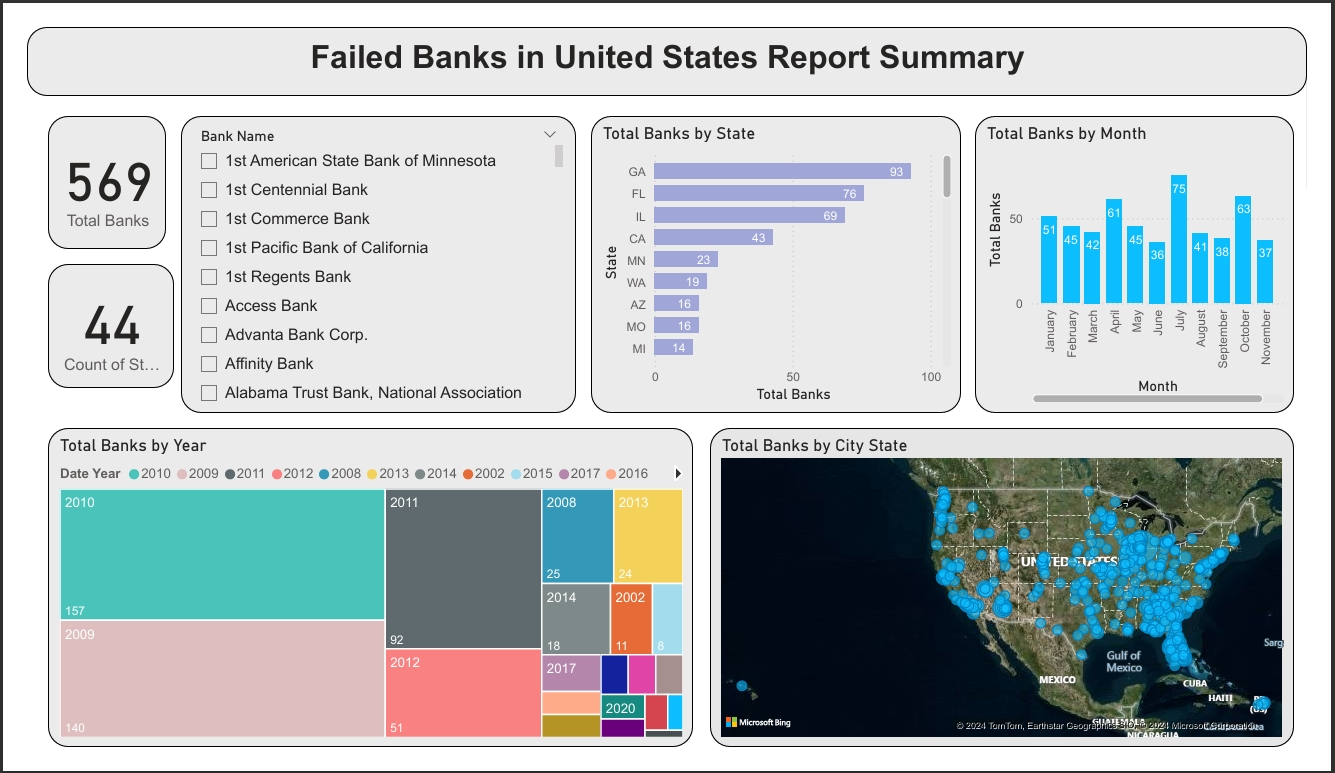

This screenshot's page, from the dashboard's own definition file:
{"tool":"powerbi","page":{"name":"Report Summary","canvas":[1280,720],"ordinal":0},"visuals":[{"type":"barChart","fields":{"Category":["Failed Banks.State "],"Y":["CountNonNull(Failed Banks.Bank Name )"]},"box":[564,89.2,370.5,296.4],"z":0},{"type":"columnChart","fields":{"Category":["Calender.Month"],"Y":["Failed Banks.Total Banks"]},"box":[948.2,89.2,318.4,296.4],"z":1000},{"type":"textbox","box":[0,0,1280.3,68.6],"z":2000},{"type":"card","fields":{"Values":["Failed Banks.Total Banks"]},"box":[20.6,89.2,118,133.1],"z":3001},{"type":"map","fields":{"Size":["Failed Banks.Total Banks"],"Category":["Failed Banks.City State"]},"box":[683.4,400.7,583.2,319.7],"z":3002},{"type":"treemap","fields":{"Group":["Calender.Date.Variation.Date Hierarchy.Year","Calender.Date.Variation.Date Hierarchy.Quarter","Calender.Date.Variation.Date Hierarchy.Month","Calender.Date.Variation.Date Hierarchy.Day"],"Values":["Failed Banks.Total Banks"]},"box":[20.6,400.7,644.9,319.7],"z":3003},{"type":"slicer","fields":{"Values":["Failed Banks.Bank Name "]},"box":[153.7,89.2,395.2,296.4],"z":3004},{"type":"card","fields":{"Values":["Count(Failed Banks.State )"]},"box":[20.6,237.4,126.2,123.5],"z":3005}]}

Visuals, with their boxes in screenshot pixels (x1, y1, x2, y2), scaled from the page's 1280x720 canvas onto the 1335x773 screenshot:
barChart - Failed Banks.State  x CountNonNull(Failed Banks.Bank Name ): (588, 96, 975, 414)
columnChart - Calender.Month x Failed Banks.Total Banks: (989, 96, 1321, 414)
textbox: (0, 0, 1334, 74)
card - Failed Banks.Total Banks: (21, 96, 145, 239)
map - Failed Banks.Total Banks x Failed Banks.City State: (713, 430, 1321, 772)
treemap - Calender.Date.Variation.Date Hierarchy.Year x Calender.Date.Variation.Date Hierarchy.Quarter: (21, 430, 694, 772)
slicer - Failed Banks.Bank Name : (160, 96, 572, 414)
card - Count(Failed Banks.State ): (21, 255, 153, 387)
